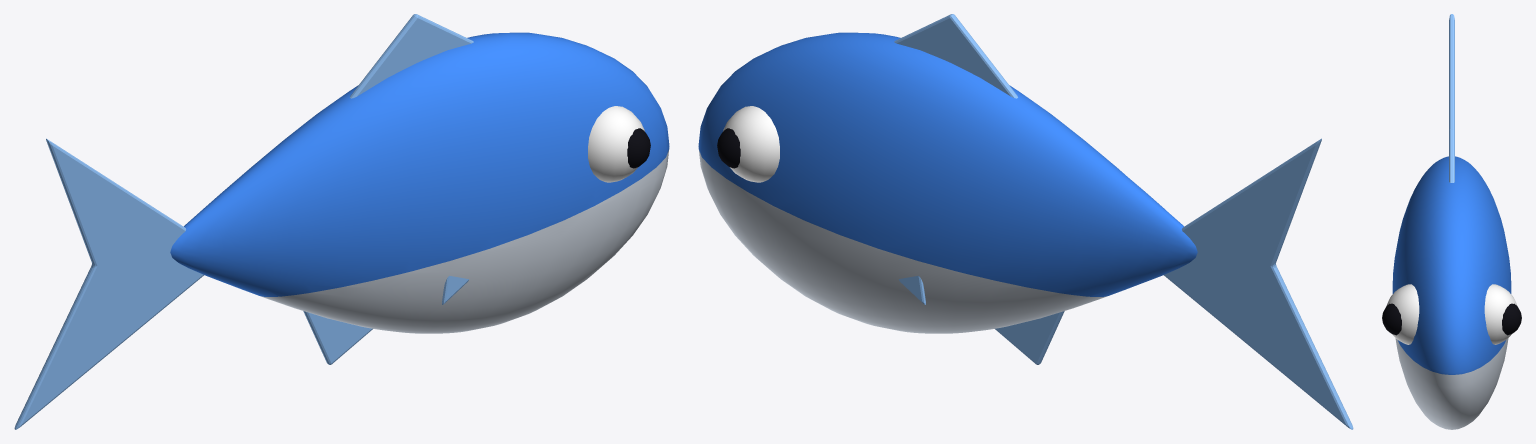
The model's file is fish.glb.
The picture shows the model from 3 angles, left to right: view 1: azimuth 30°, elevation 25°; view 2: azimuth 150°, elevation 25°; view 3: azimuth 270°, elevation 25°; orthographic projection. The views are drawn at different scales.
Visible parts, largest first — view 1: fish_body, fish_tail, fish_dorsal, fish_eyeL, fish_anal, fish_pupilL; view 2: fish_body, fish_tail, fish_dorsal, fish_eyeR, fish_anal, fish_pupilR; view 3: fish_body, fish_eyeL, fish_eyeR, fish_tail, fish_pupilL, fish_pupilR, fish_dorsal.
Boxes of the visible parts, x1,y1,x2,y2 form: fish_body: (170, 32, 669, 333); fish_tail: (14, 138, 203, 429); fish_dorsal: (350, 14, 473, 98); fish_eyeL: (588, 106, 644, 182); fish_anal: (303, 311, 372, 364); fish_pupilL: (627, 128, 650, 168); fish_body: (698, 32, 1197, 333); fish_tail: (1164, 138, 1353, 429); fish_dorsal: (894, 14, 1017, 98); fish_eyeR: (723, 106, 779, 182); fish_anal: (995, 311, 1064, 364); fish_pupilR: (717, 128, 740, 168); fish_body: (1392, 156, 1511, 429); fish_eyeL: (1386, 284, 1419, 344); fish_eyeR: (1484, 284, 1517, 344); fish_tail: (1449, 14, 1454, 129); fish_pupilL: (1382, 303, 1401, 335); fish_pupilR: (1502, 303, 1521, 335); fish_dorsal: (1449, 129, 1454, 182).
Bounding box in the file's own units: 1.2 × 0.5769 × 0.282.
